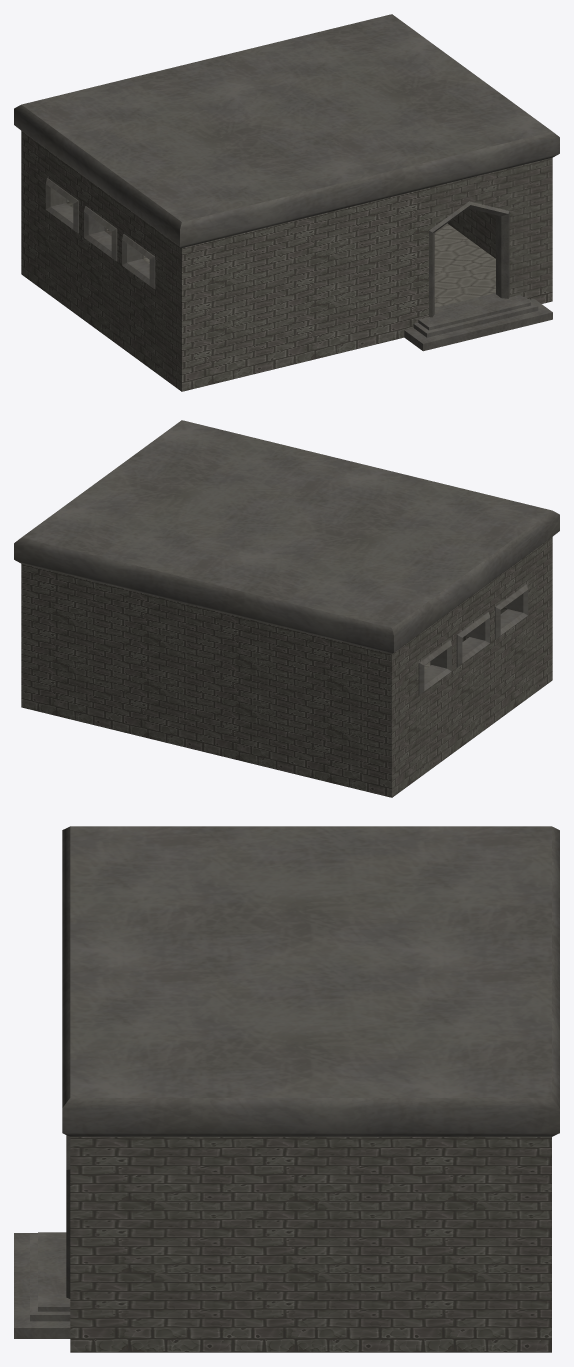
File: Ruins_Building_02.fbx
3 views of the same model, one above another, from view 1: azimuth 30°, elevation 25°; view 2: azimuth 150°, elevation 25°; view 3: azimuth 270°, elevation 25° (orthographic). The views are drawn at different scales.
Visible parts, largest first — view 1: Ruins_Building_02; view 2: Ruins_Building_02; view 3: Ruins_Building_02.
Boxes of the visible parts, x1,y1,x2,y2 form: Ruins_Building_02: (14,14,559,391); Ruins_Building_02: (14,420,559,797); Ruins_Building_02: (14,826,559,1352).
Size of the model in its own units: 82 by 35 by 68.
